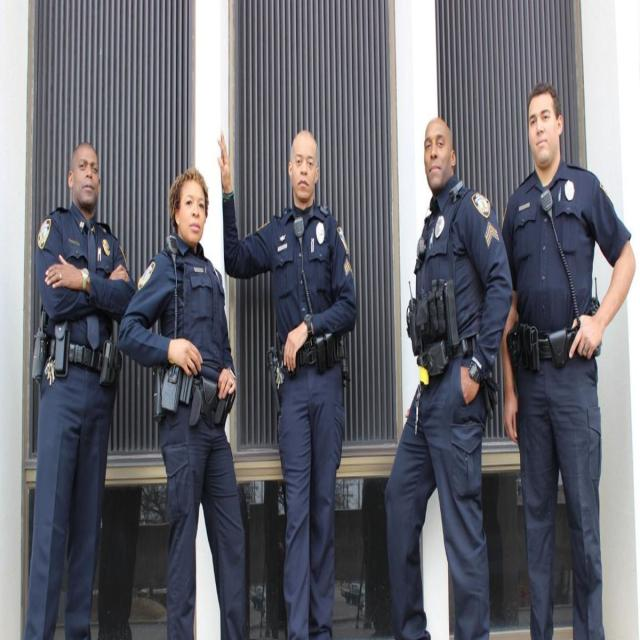police: (491, 75, 636, 640), (225, 108, 360, 640), (384, 79, 498, 640), (123, 164, 253, 640), (6, 130, 117, 640)
